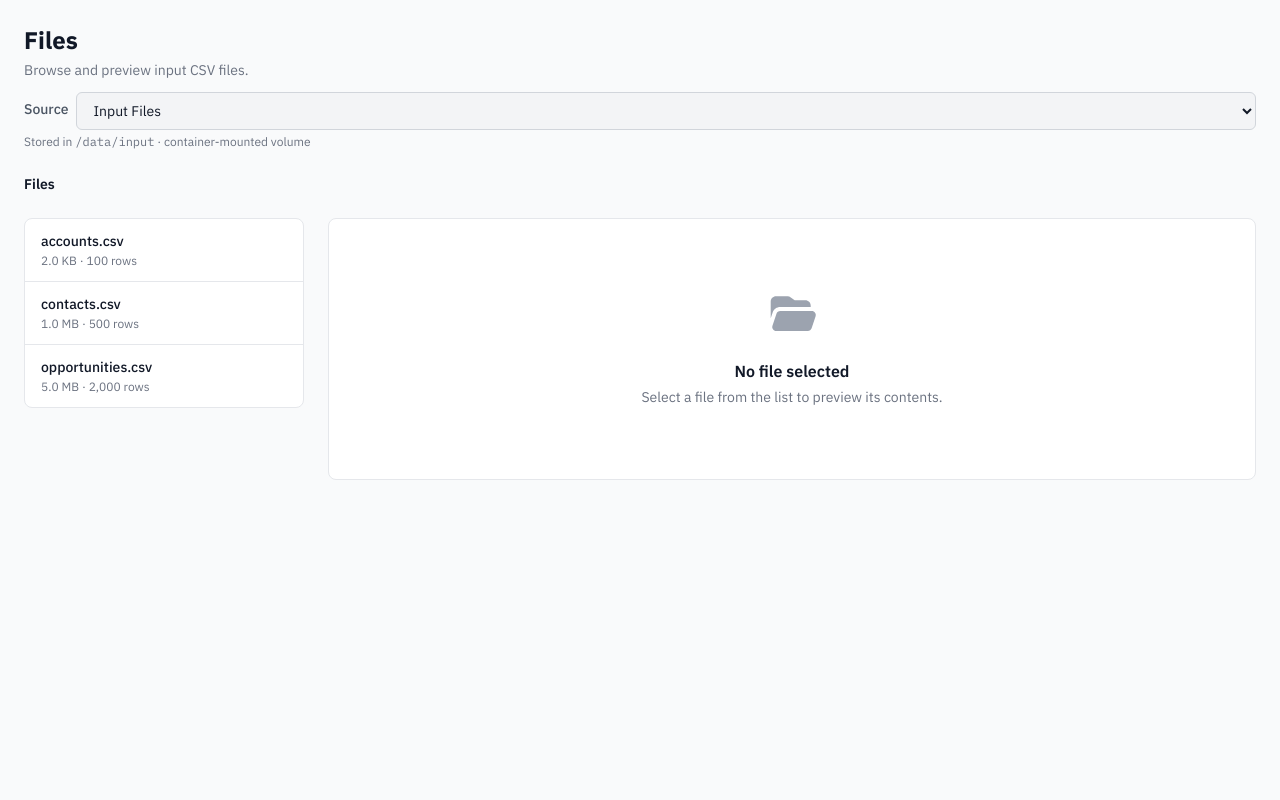
Test: FilesPage › shows ApiError message for preview fetch failure
Click the text "accounts.csv".
click(82, 241)  # box [41,232,124,250]
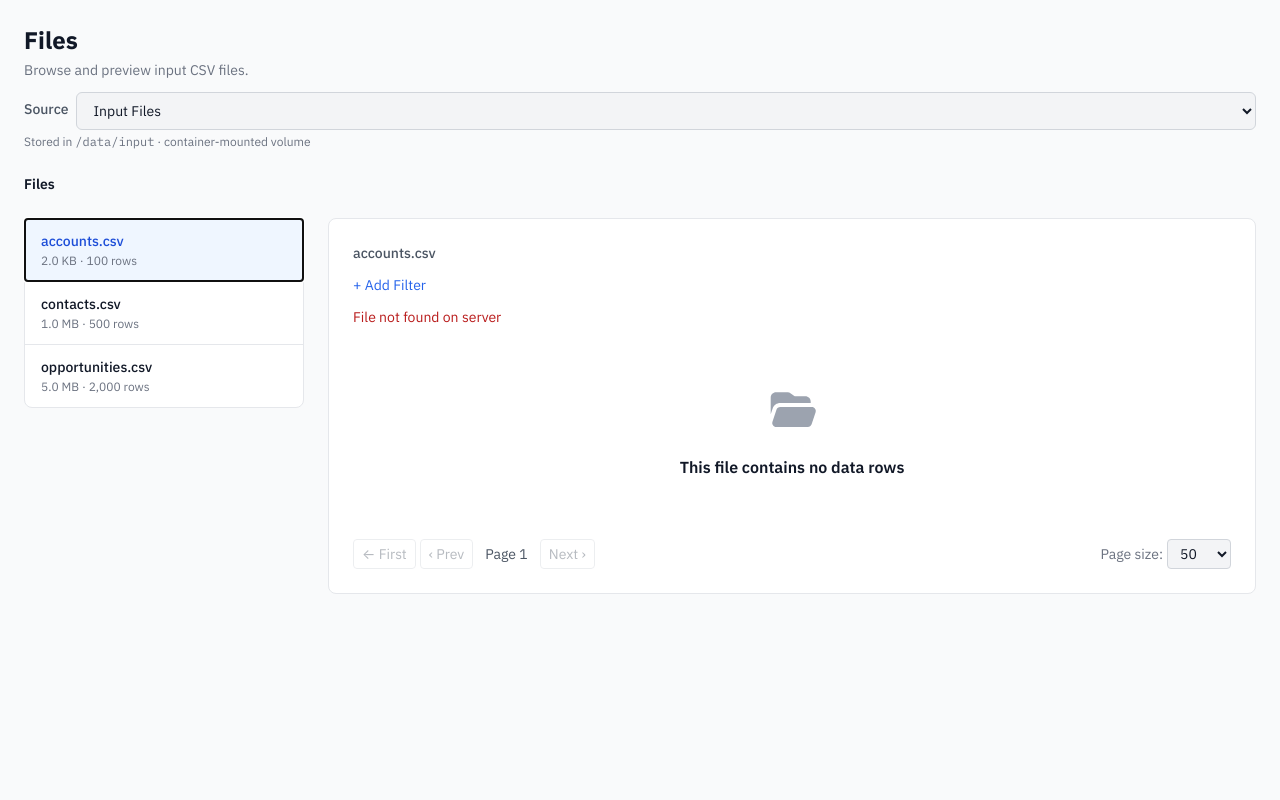
Expected: the text "File not found on server" is shown, [353,308,501,326]
